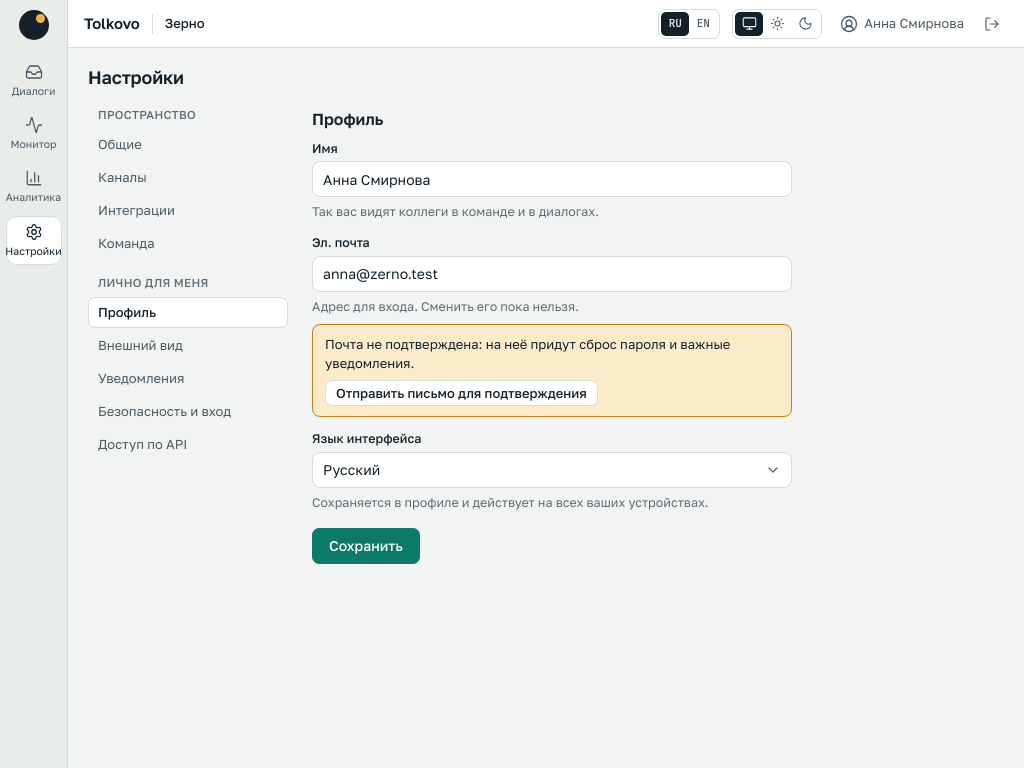
Scenario: email confirmation in the profile › offers to send the confirmation email again while the address is unconfirmed
Expected: the text "Почта не подтверждена" is shown, [325,336,730,371]
Step 1. Click the button "Отправить письмо для подтверждения" → (461, 393), box [325,380,598,406]
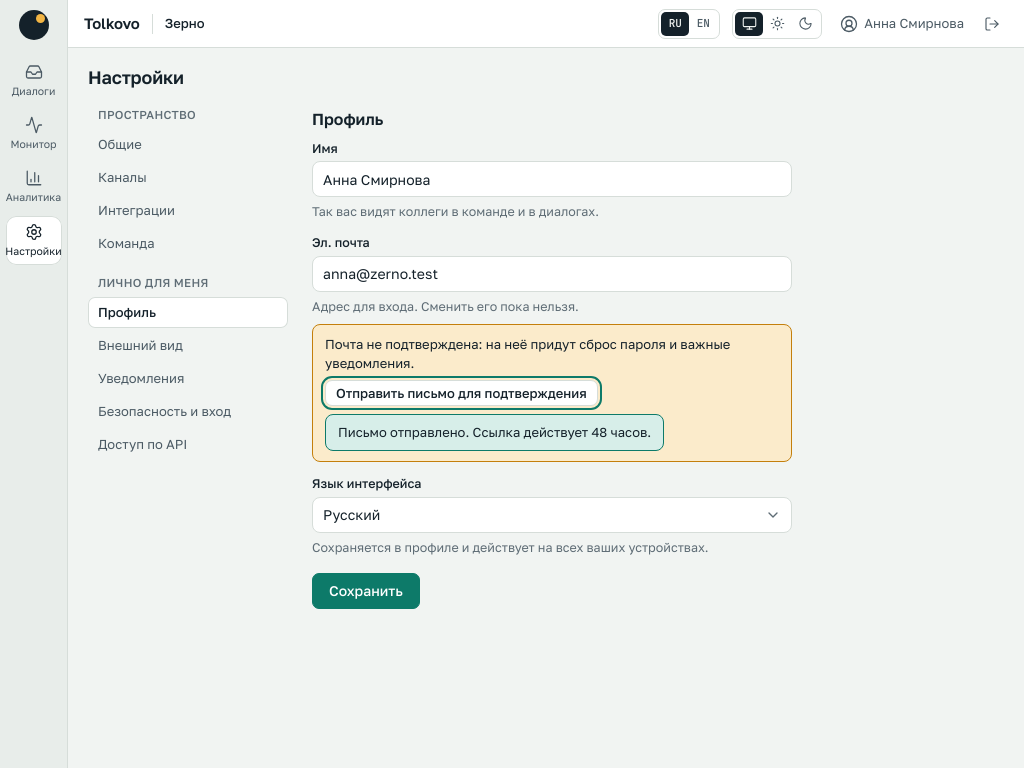
Now the text "Письмо отправлено. Ссылка действует 48 часов." is shown, box [325,414,664,451]
